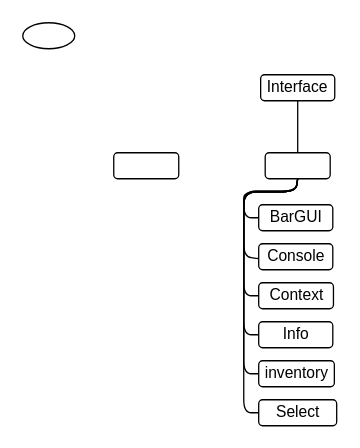
This 360x448 diagram has some shape labels left out. Each missing label, with the box of its shape:
GameUI: (264, 151, 330, 179)
MenuUI: (112, 151, 179, 179)
Start: (21, 21, 75, 49)
